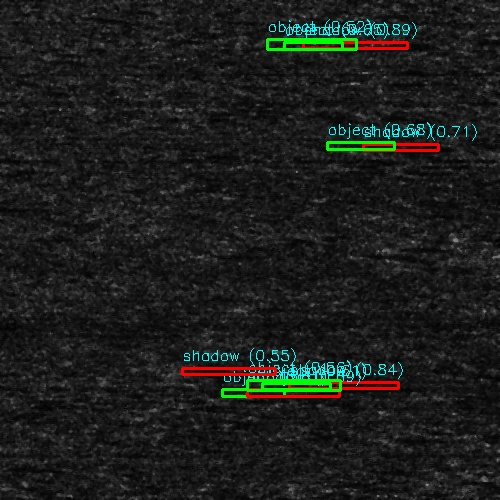rock: (262, 382, 335, 389), (235, 386, 276, 397), (278, 42, 319, 49), (440, 231, 471, 240), (348, 77, 401, 82), (174, 369, 227, 374), (386, 244, 417, 249), (478, 249, 500, 254), (485, 79, 500, 86), (473, 307, 500, 310)
shadow: (256, 386, 382, 397), (299, 382, 428, 389), (299, 42, 406, 49), (375, 77, 482, 82), (201, 369, 293, 374), (456, 231, 500, 240), (402, 244, 472, 249), (0, 319, 33, 328), (0, 201, 17, 208)
